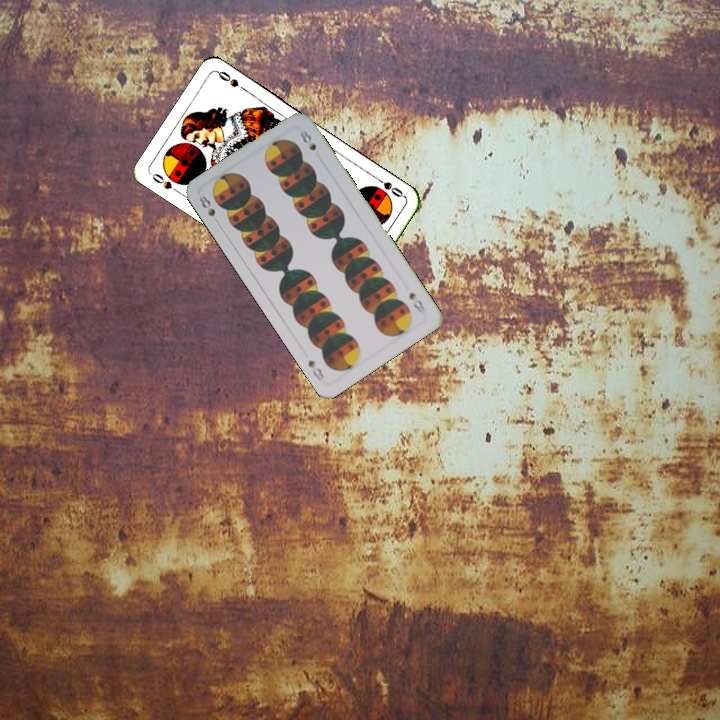S8: (195, 191, 223, 228), (405, 288, 428, 315)
SO: (370, 172, 407, 200), (147, 169, 183, 197)
